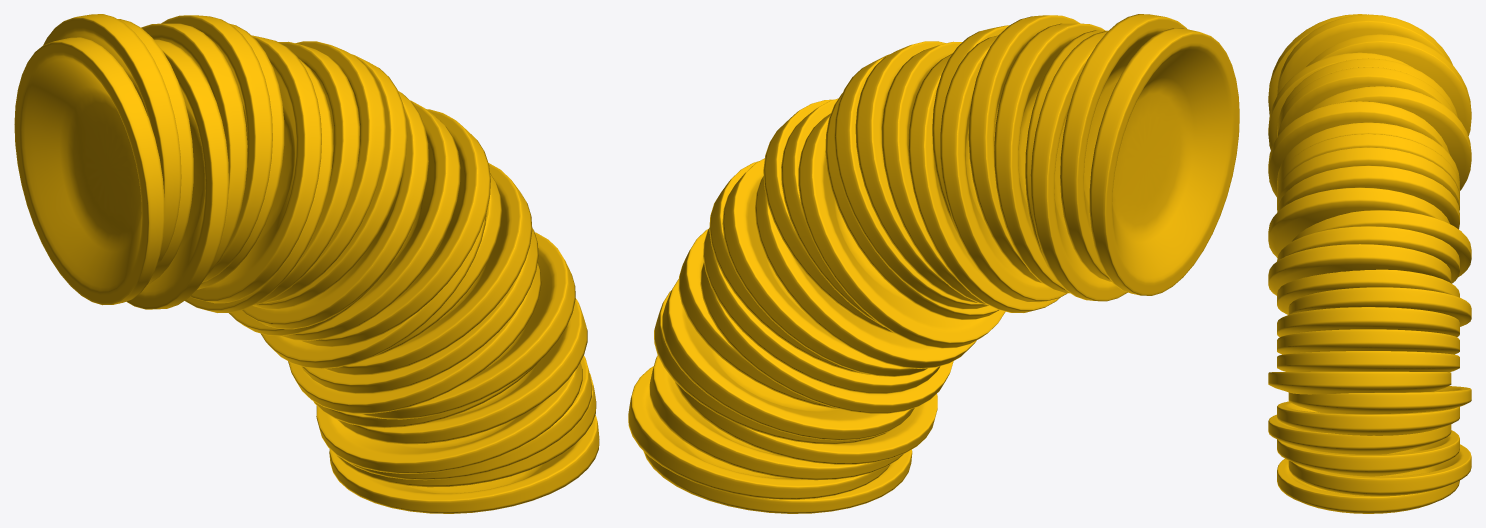
Rendered from platodoblau.fbx.
3 views of the same model, side by side, from view 1: azimuth 30°, elevation 25°; view 2: azimuth 150°, elevation 25°; view 3: azimuth 270°, elevation 25° (orthographic). The views are drawn at different scales.
Visible parts, largest first — view 1: platodoblao; view 2: platodoblao; view 3: platodoblao.
Boxes of the visible parts, left/top/right/bottom form: platodoblao: left=14, top=14, right=599, bottom=513; platodoblao: left=628, top=14, right=1239, bottom=513; platodoblao: left=1268, top=14, right=1471, bottom=513.
Size of the model in its own units: 0.0432 by 0.0432 by 0.0219.
